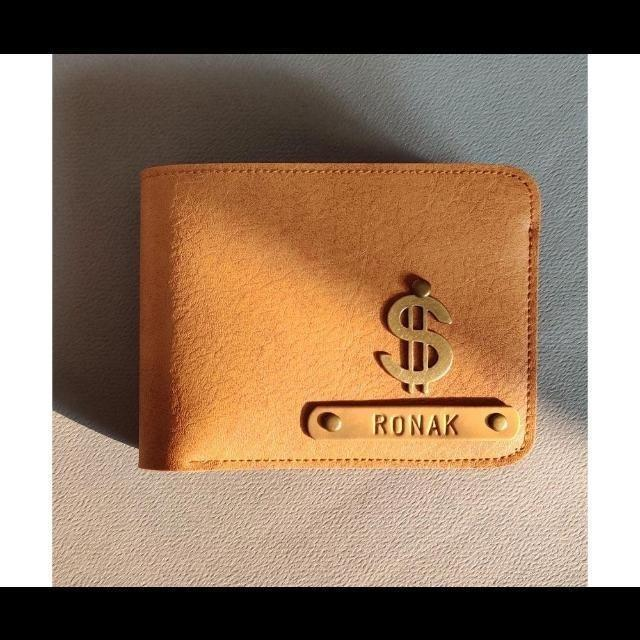Wallet: (140, 164, 536, 468)
